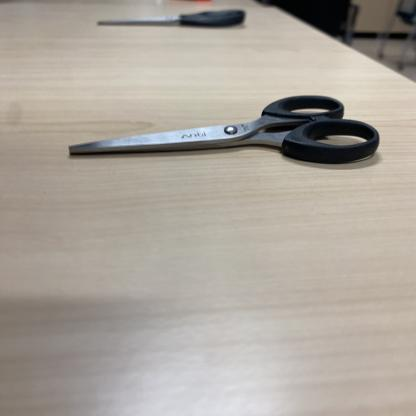scissors: (69, 93, 380, 164), (97, 0, 246, 31)
